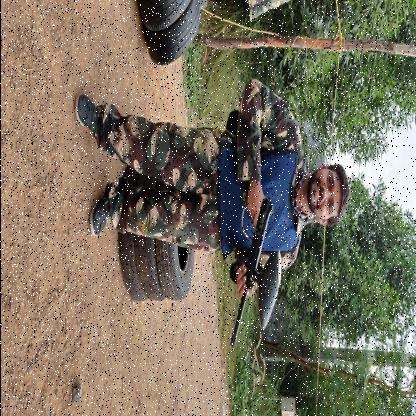rifle: (228, 186, 281, 352)
